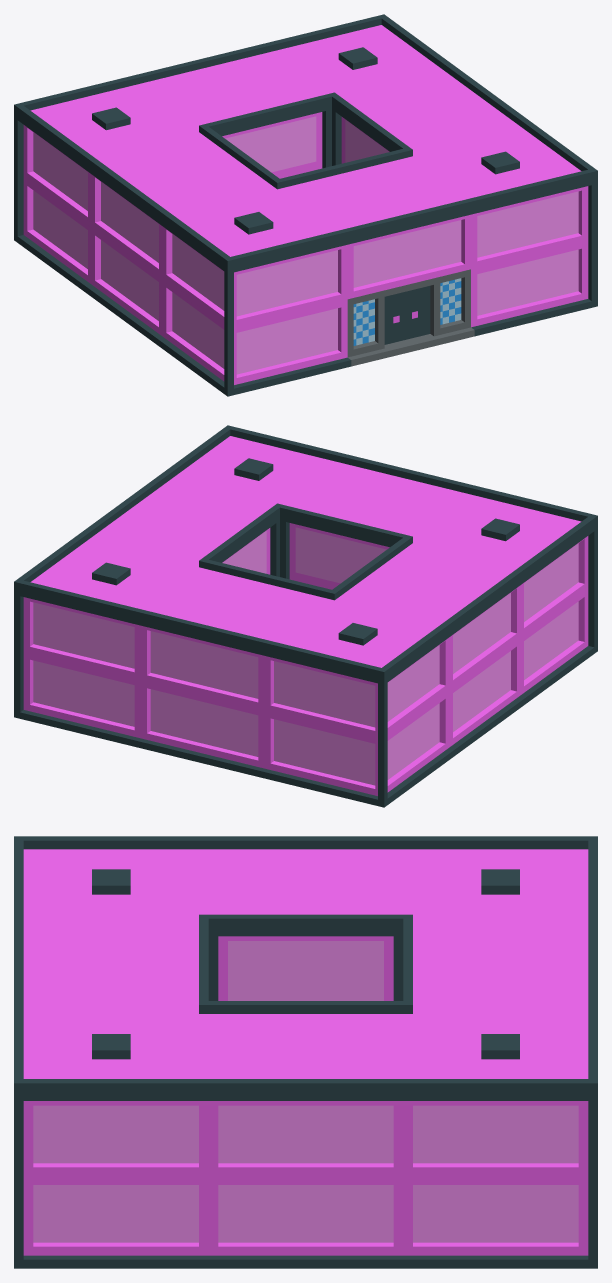
Rendered from headquarters.obj.
3 renders of one model, top to bottom at view 1: azimuth 30°, elevation 25°; view 2: azimuth 150°, elevation 25°; view 3: azimuth 270°, elevation 25°, orthographic. The views are drawn at different scales.
Size of the model in its own units: 6 by 2.1 by 6.
Materials: 1 (1 with a texture image).
